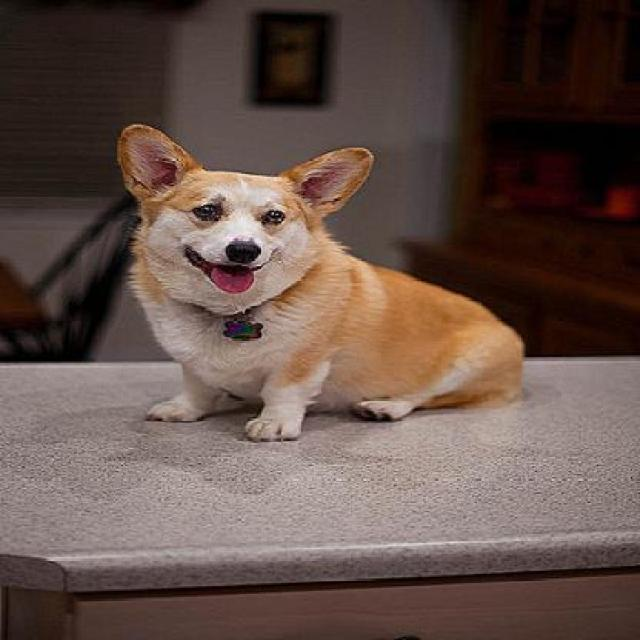Dog: (115, 122, 532, 443)
